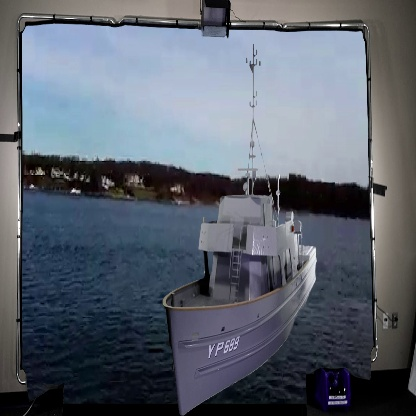YP689: (163, 49, 316, 412)
